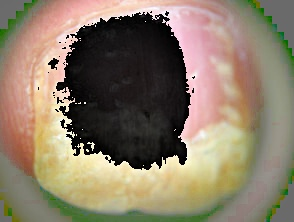Nail_psoriasis: (18, 0, 273, 222)
